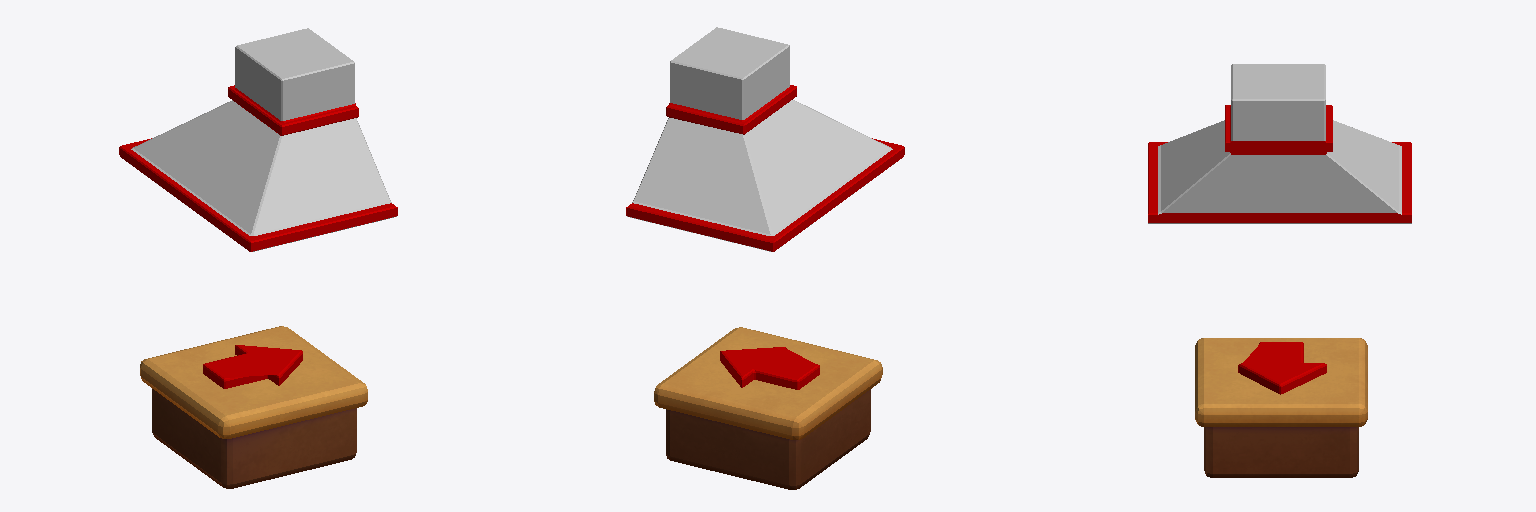
3 renders of one model, left to right at view 1: azimuth 30°, elevation 25°; view 2: azimuth 150°, elevation 25°; view 3: azimuth 270°, elevation 25°, orthographic.
Parts seen in each view (by area): view 1: Hood.001, ClearCounter.Base.005, Arrow.001; view 2: Hood.001, ClearCounter.Base.005, Arrow.001; view 3: Hood.001, ClearCounter.Base.005, Arrow.001.
Boxes of the visible parts, box(x1,y1,x2,y2) form: Hood.001: box(119, 28, 397, 251); ClearCounter.Base.005: box(140, 326, 367, 488); Arrow.001: box(203, 345, 302, 388); Hood.001: box(626, 27, 904, 251); ClearCounter.Base.005: box(654, 327, 882, 489); Arrow.001: box(720, 347, 819, 389); Hood.001: box(1148, 64, 1411, 223); ClearCounter.Base.005: box(1195, 338, 1367, 477); Arrow.001: box(1238, 342, 1326, 394).
Size of the model in its own units: 1.35 by 3.3 by 2.04.
Materials: 3 (1 with a texture image).